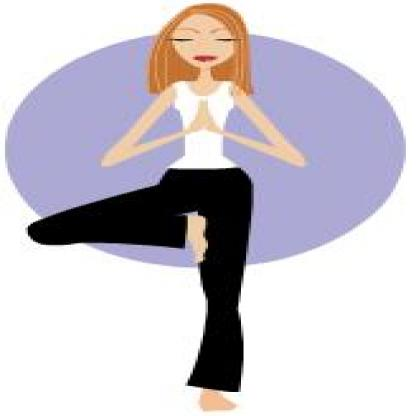tree: (17, 1, 341, 416)
